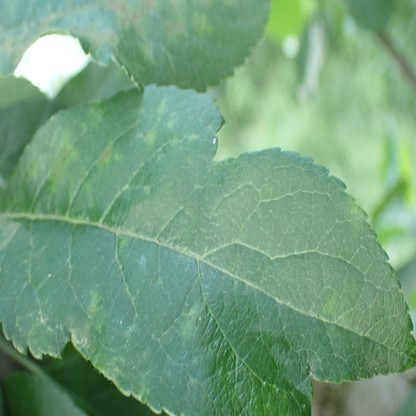scab: (0, 0, 211, 70), (49, 131, 78, 197), (67, 168, 91, 200), (82, 107, 106, 136), (180, 302, 200, 335), (27, 153, 49, 180), (103, 354, 125, 375), (96, 142, 112, 168), (88, 290, 99, 314), (144, 123, 156, 144), (157, 96, 167, 113), (113, 152, 124, 161)
